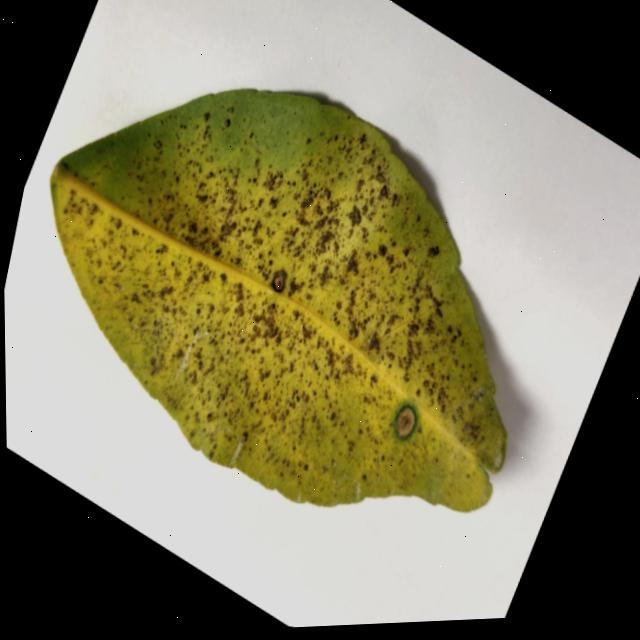melanose: (50, 90, 506, 511)
